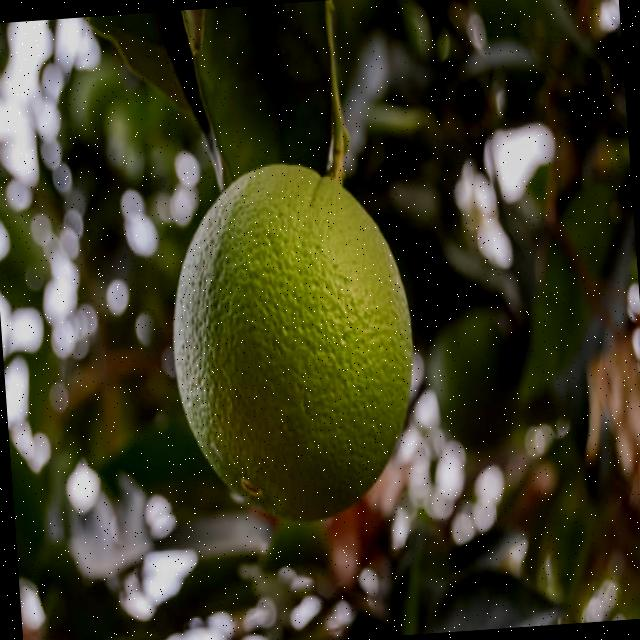Unripe: (159, 152, 424, 530)
